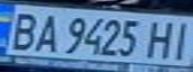2: (100, 16, 127, 57)
4: (81, 15, 106, 56)
5: (118, 16, 148, 58)
9: (60, 13, 87, 55)
A: (30, 11, 63, 54)
B: (3, 9, 42, 52)
H: (142, 17, 181, 60)
I: (163, 19, 193, 60)
